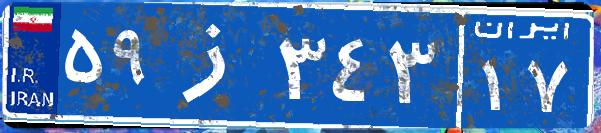1: (475, 38, 525, 113)
3: (385, 28, 445, 110), (273, 28, 330, 110)
4: (330, 28, 385, 110)
5: (57, 26, 110, 107)
7: (525, 38, 570, 115)
9: (110, 28, 158, 105)
ز: (158, 15, 273, 115)
